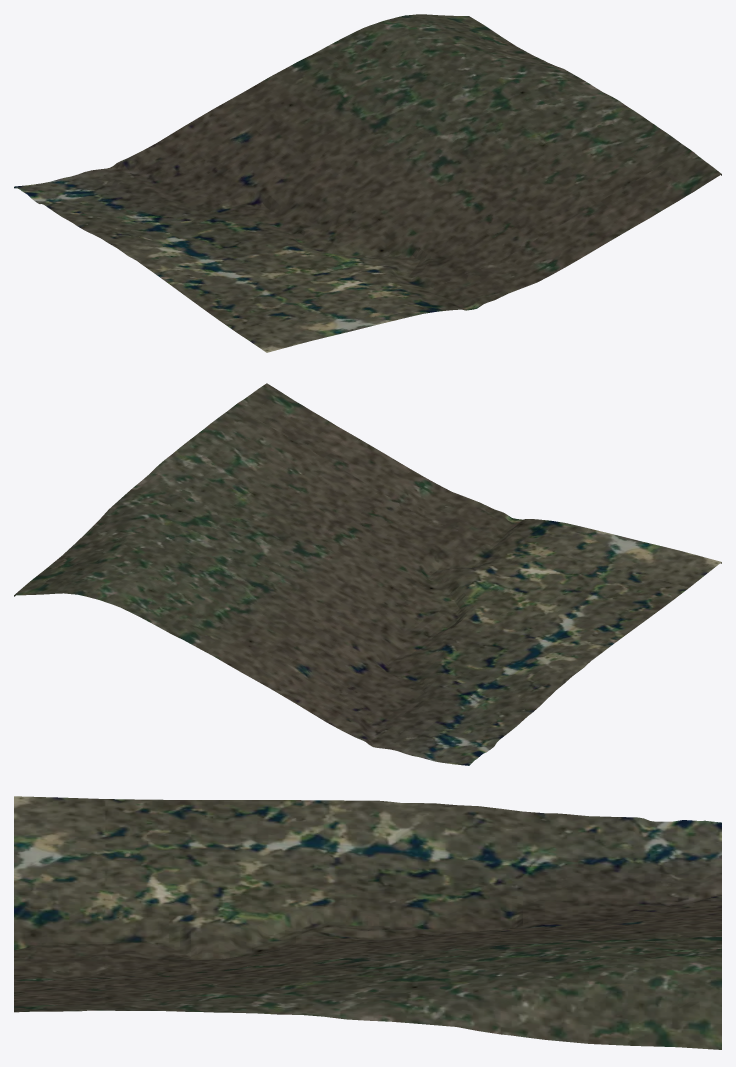
3 views of the same model, one above another, from view 1: azimuth 30°, elevation 25°; view 2: azimuth 150°, elevation 25°; view 3: azimuth 270°, elevation 25° (orthographic). The views are drawn at different scales.
Size of the model in its own units: 250 by 49.53 by 241.
1 material, 1 textured.
